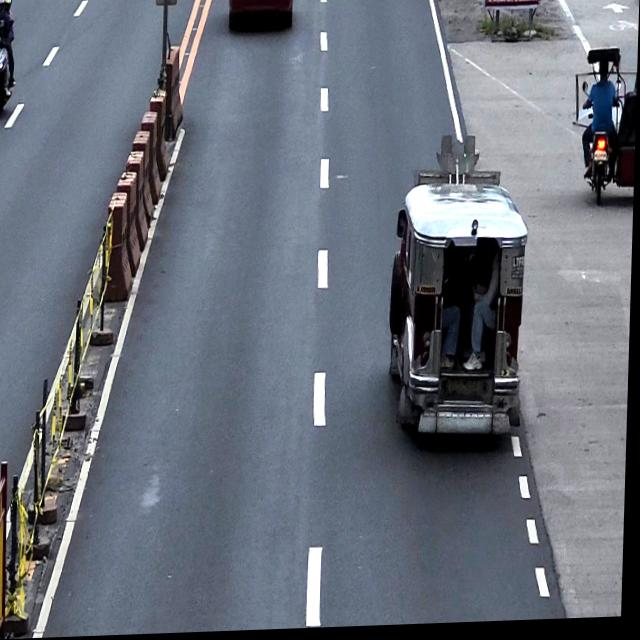Jeep: (388, 135, 532, 444)
License-Plate: (594, 153, 609, 167)
Motorcycle: (0, 17, 16, 121)
Tricycle: (571, 51, 638, 213)
